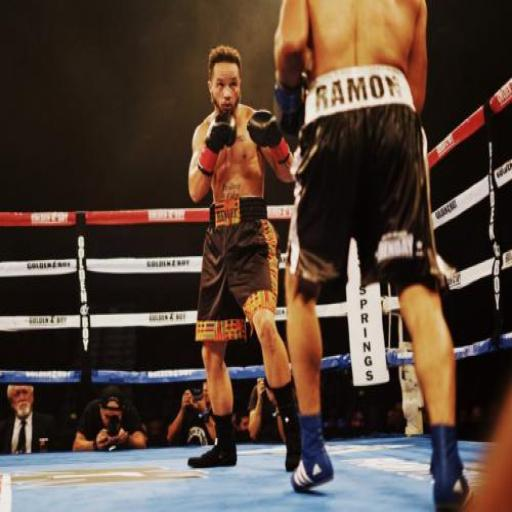boxing: (269, 0, 474, 511), (185, 44, 301, 474)
